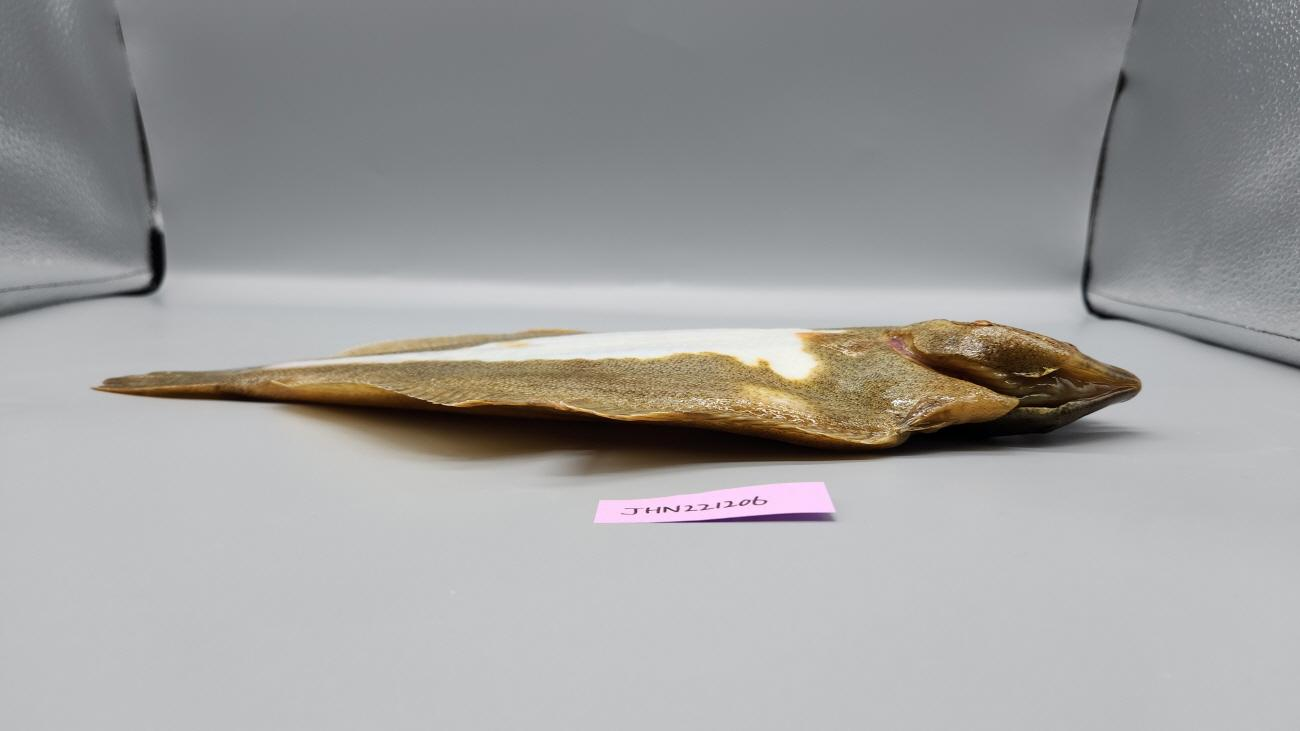POOUN: (87, 318, 1145, 449)
